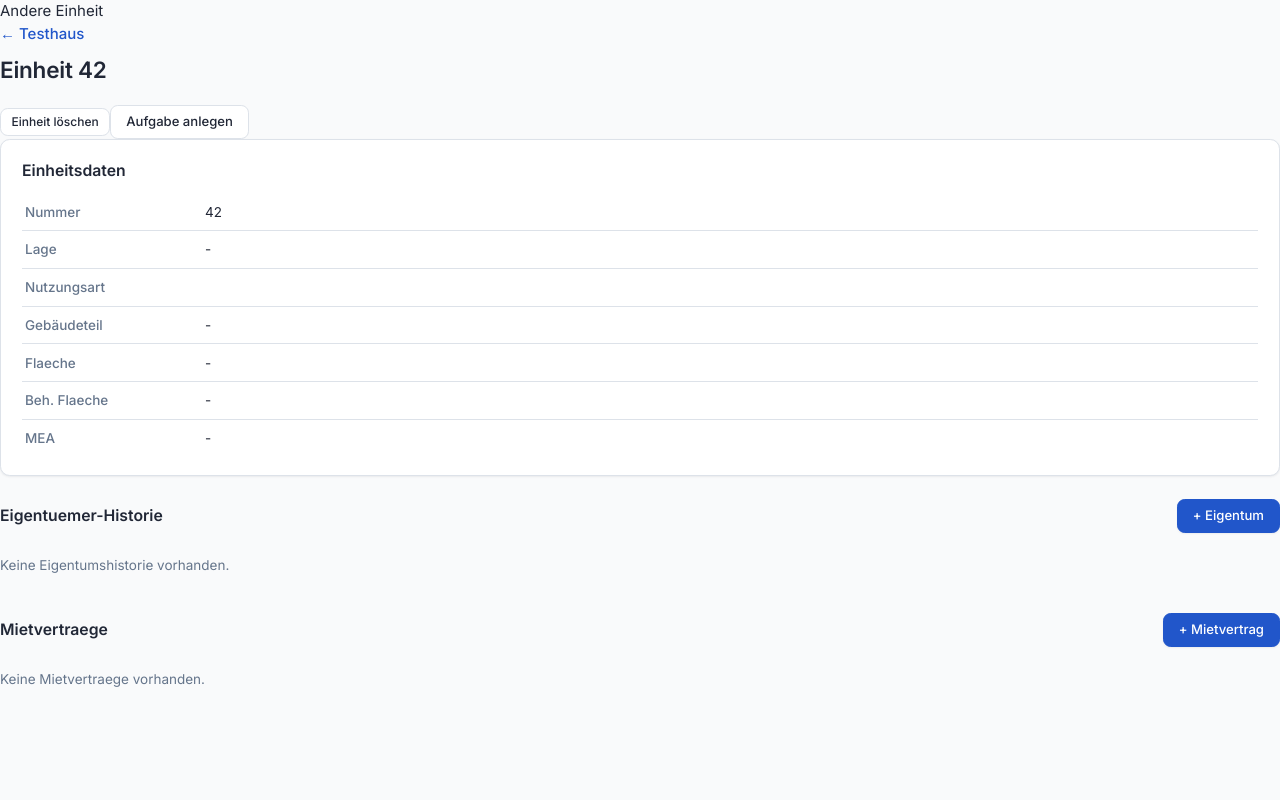
Scenario: cancel names the unit and irreversible reference policy, without writing
Click the button "Einheit löschen".
click(55, 122)  # box [0,108,110,136]
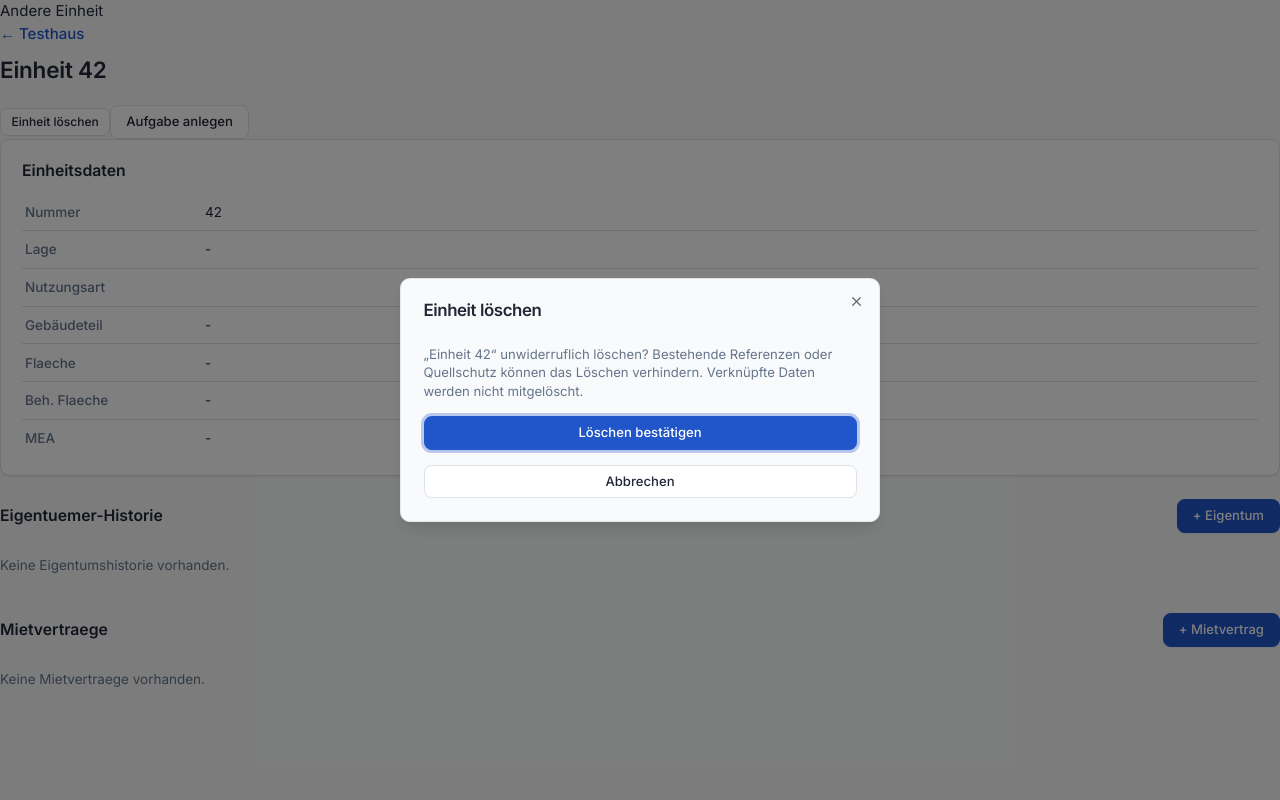
Check: the dialog "Einheit löschen" shows "42", box [429,346,491,362]
Check: the dialog "Einheit löschen" shows "unwiderruflich", box [424,346,832,399]
Check: the dialog "Einheit löschen" shows "Referenzen", box [424,346,832,399]
Click the button "Abbrechen".
click(640, 482)  # box [424,465,856,498]
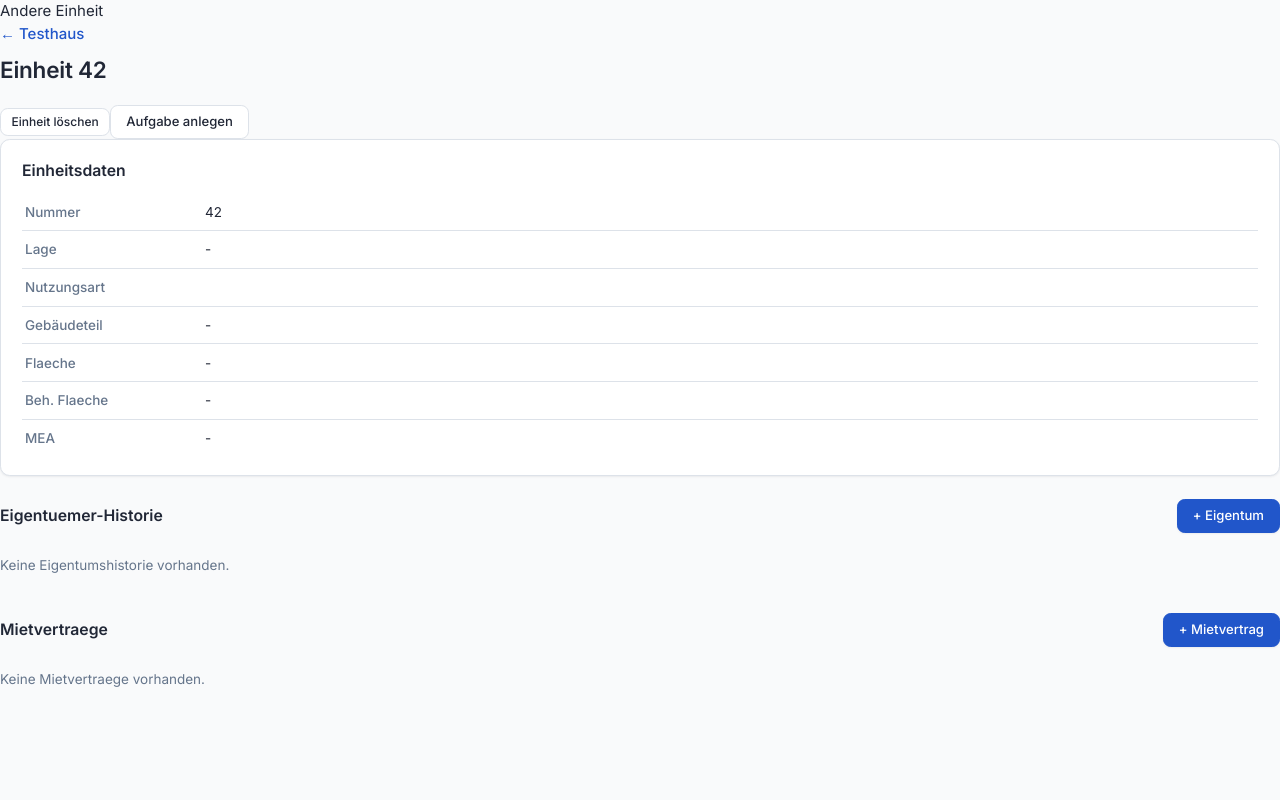
Check: the dialog is gone
